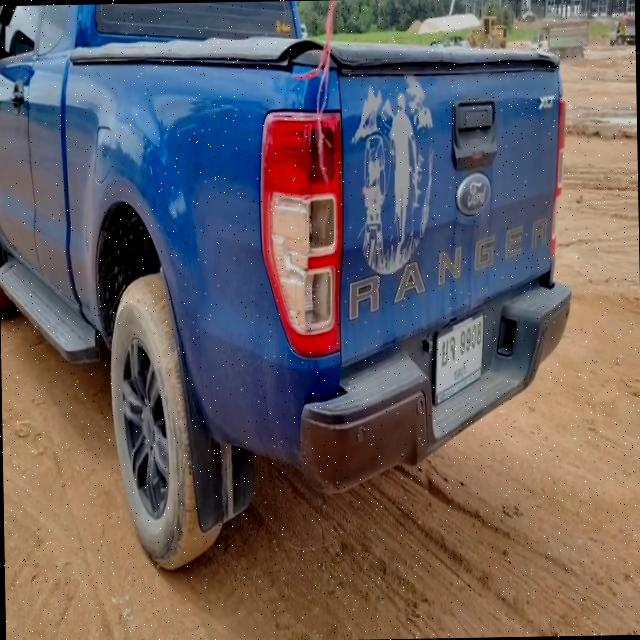Digit: (458, 320, 484, 356)
Licenseplate: (433, 308, 485, 409)
Provincename: (453, 358, 468, 383)
Thaichar: (440, 332, 455, 368)
